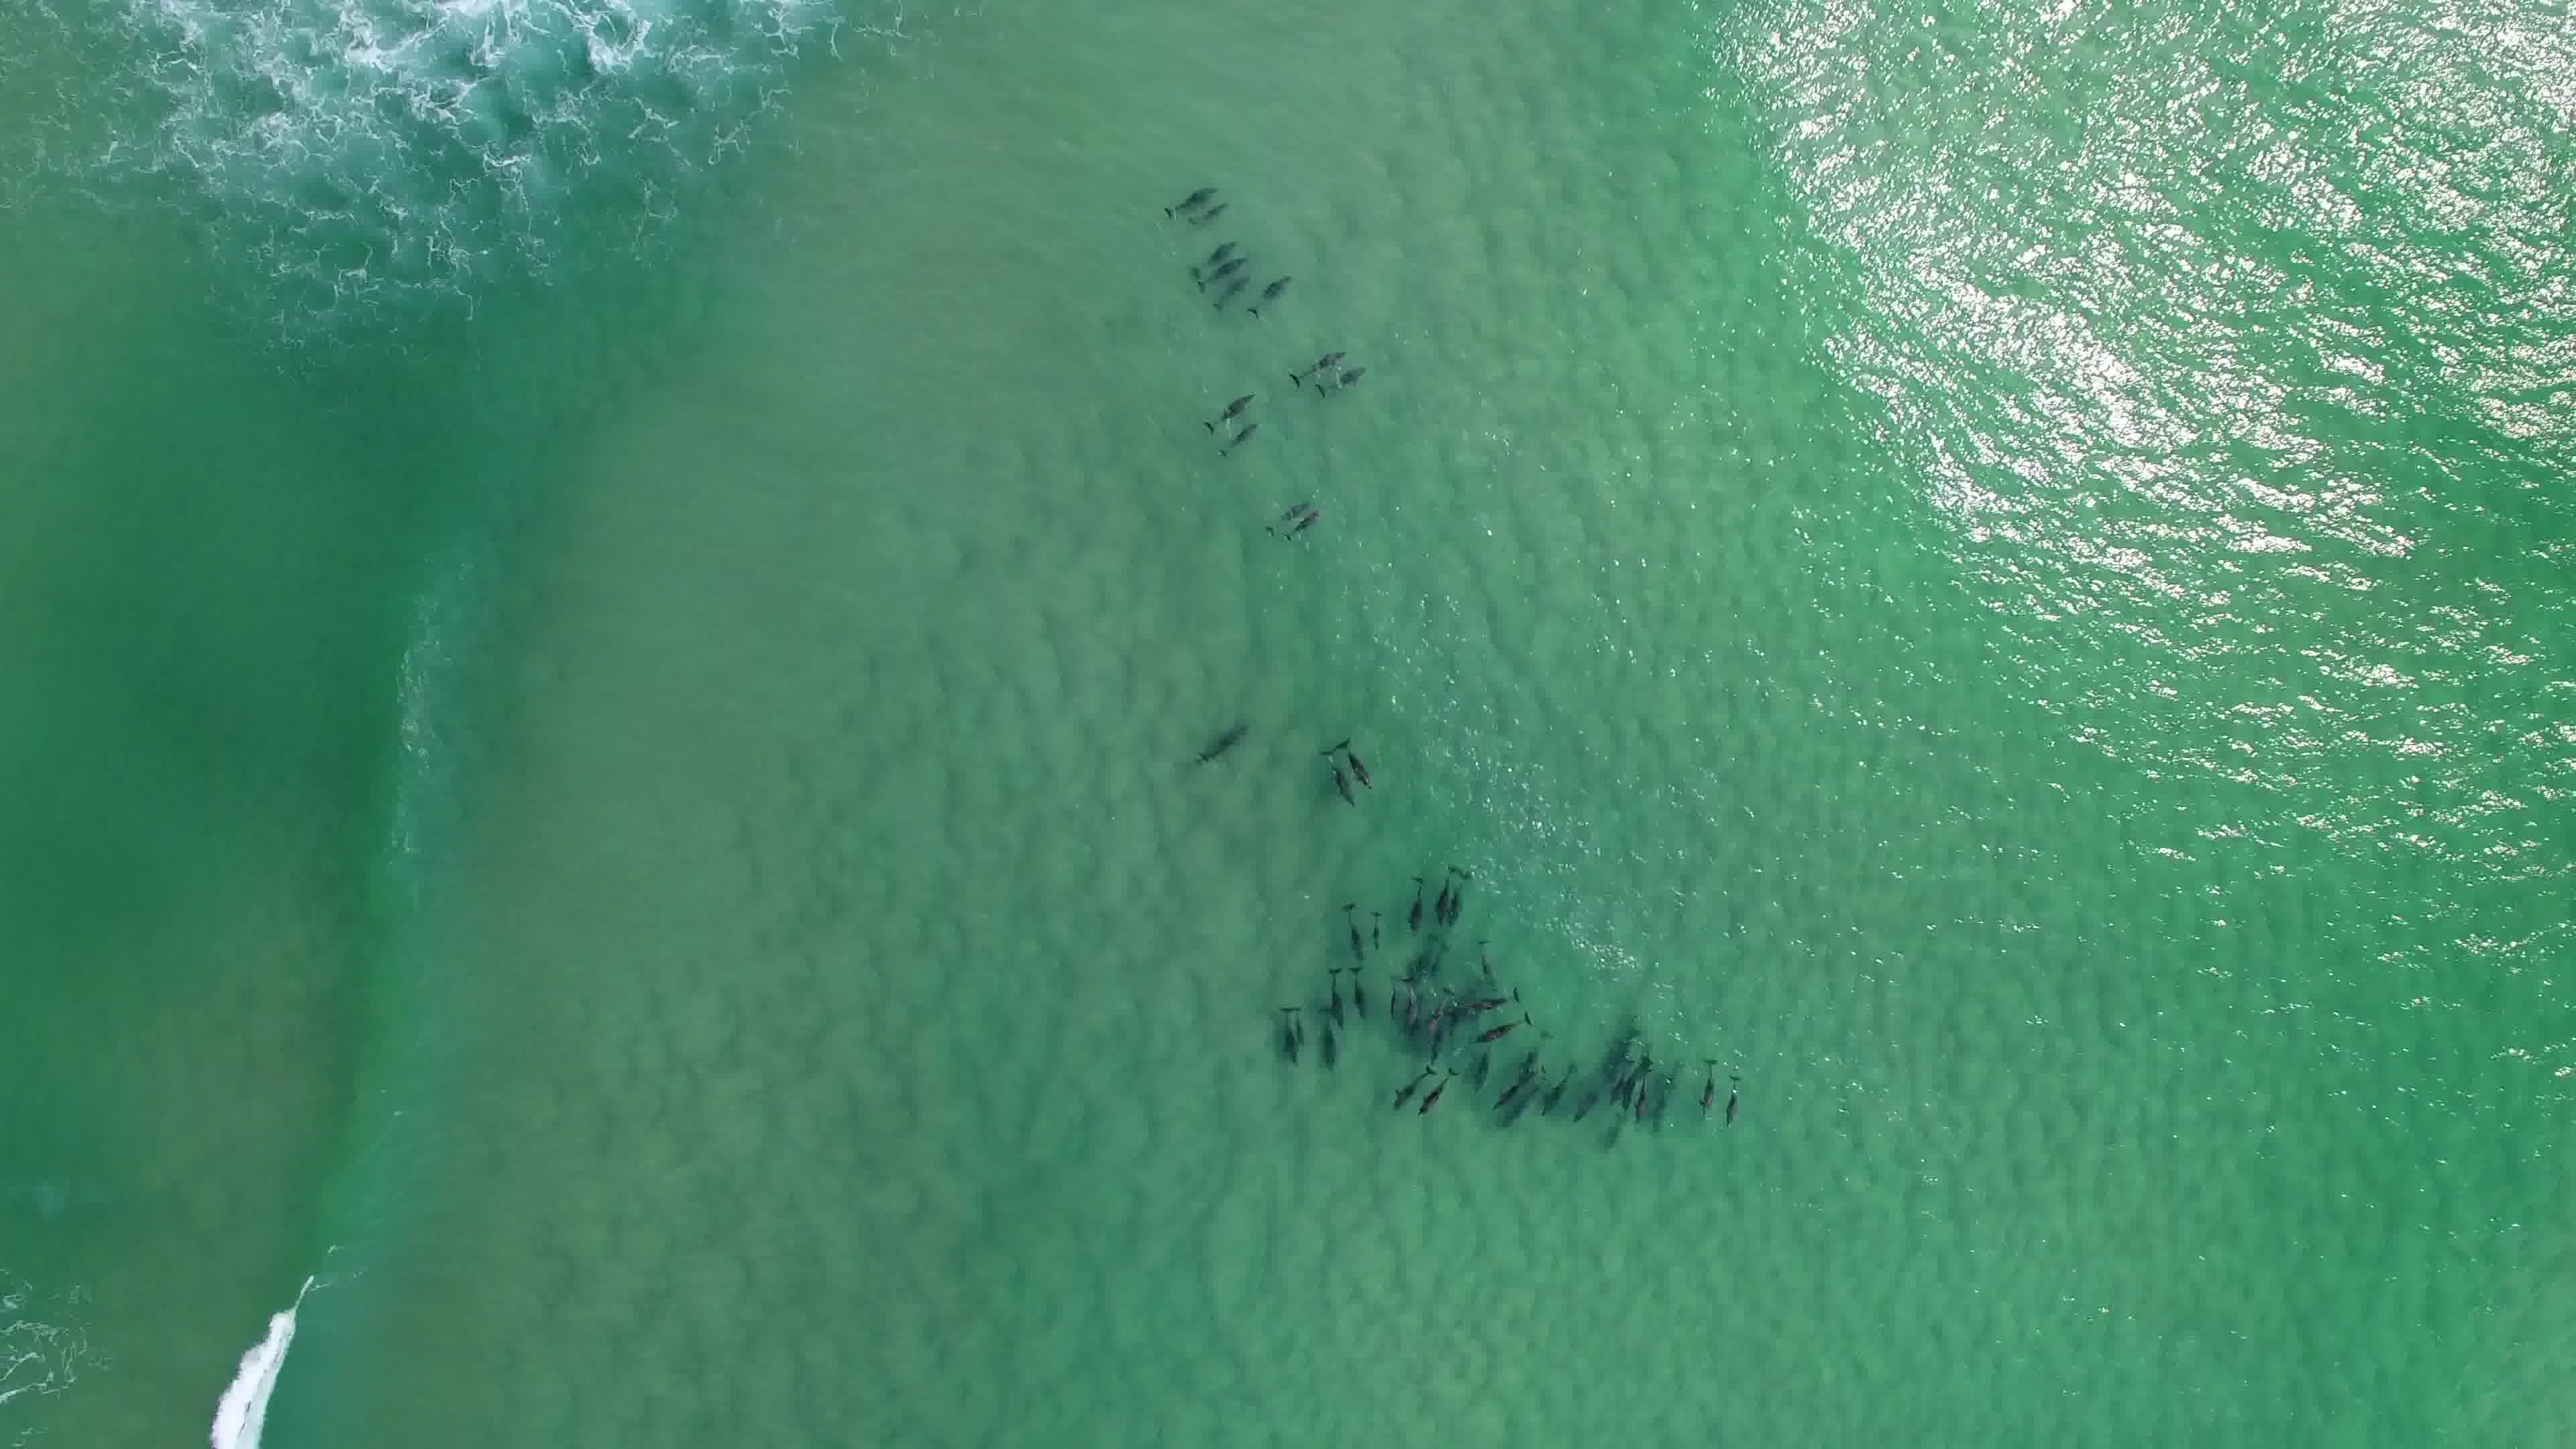dolphin: (1619, 1054, 1660, 1136), (1238, 267, 1297, 322), (1279, 336, 1350, 379), (1191, 386, 1261, 426), (1713, 1063, 1748, 1145), (1541, 1054, 1583, 1122), (1187, 724, 1258, 763), (1463, 1008, 1541, 1044), (1316, 738, 1355, 807), (1217, 418, 1272, 464), (1458, 982, 1532, 1016), (1154, 177, 1217, 214), (1338, 736, 1376, 794), (1693, 1047, 1721, 1125), (1391, 1056, 1433, 1104), (1316, 361, 1369, 398), (1323, 954, 1350, 1028), (1497, 1069, 1541, 1113), (1205, 267, 1253, 308), (1343, 888, 1368, 962), (1424, 1058, 1451, 1125), (1407, 867, 1430, 943), (1189, 235, 1237, 269), (1182, 198, 1235, 228), (1315, 1014, 1341, 1072), (1198, 251, 1247, 281), (1263, 494, 1313, 524), (1277, 1007, 1302, 1065), (1281, 510, 1327, 540), (1453, 865, 1468, 936), (1348, 962, 1366, 1021), (1405, 973, 1421, 1037), (1384, 970, 1403, 1021), (1433, 860, 1449, 922), (1366, 911, 1382, 955), (1292, 1008, 1309, 1046)
